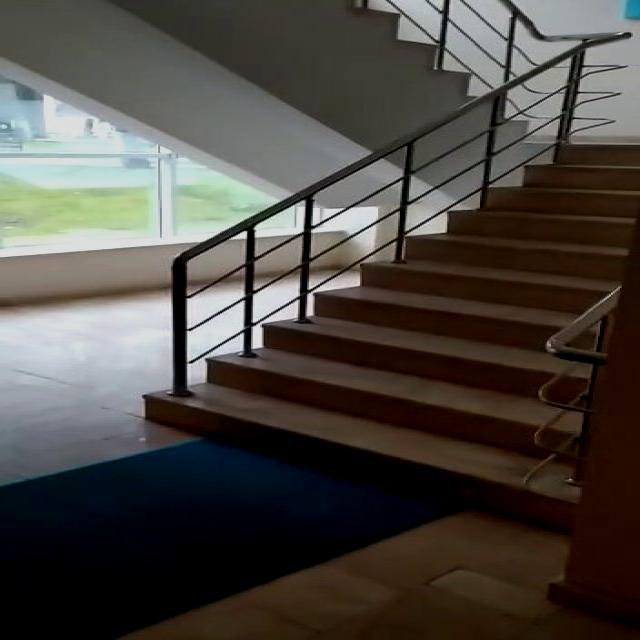stair: (143, 126, 640, 527)
